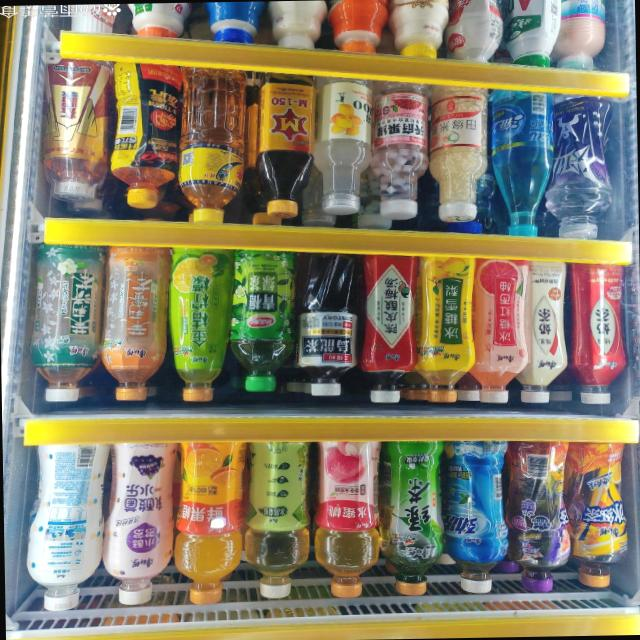bottle: (24, 440, 106, 608), (100, 438, 180, 602), (27, 244, 108, 404), (171, 438, 249, 602), (108, 59, 186, 208), (98, 246, 172, 402), (242, 438, 314, 596), (175, 64, 246, 222), (314, 436, 384, 596), (438, 442, 508, 595), (382, 437, 448, 593), (541, 95, 613, 238), (462, 257, 532, 401), (169, 250, 235, 402), (487, 91, 555, 238), (292, 253, 362, 395), (230, 250, 299, 394), (353, 252, 418, 402), (506, 439, 568, 594), (410, 255, 476, 400), (40, 57, 106, 199), (566, 442, 626, 590), (310, 74, 374, 212), (370, 78, 432, 218), (424, 90, 488, 224), (566, 262, 626, 402), (256, 75, 314, 218), (510, 261, 566, 403), (501, 0, 560, 69), (440, 0, 501, 62), (548, 0, 605, 65), (386, 0, 449, 57), (327, 0, 390, 52), (266, 0, 326, 51), (204, 1, 268, 43), (124, 2, 190, 36), (66, 4, 120, 32)
